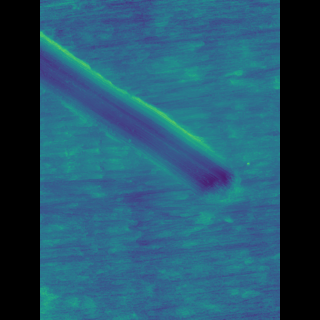Loch: (69, 28, 224, 204)
